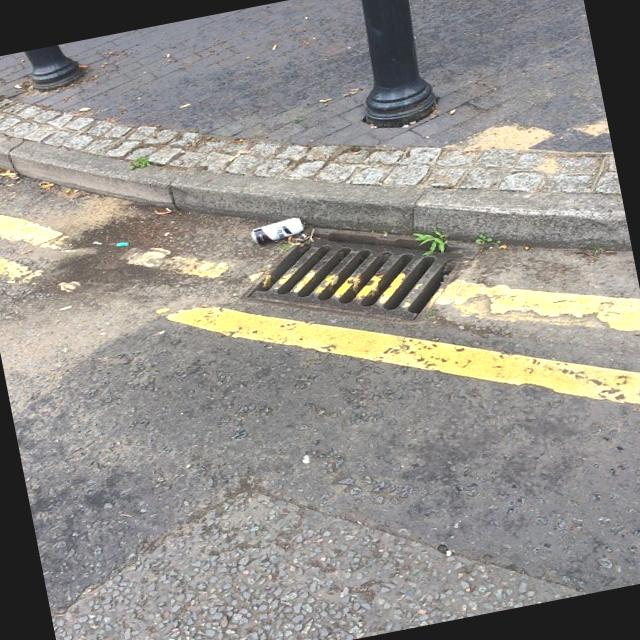Recycle: (248, 215, 310, 248)
